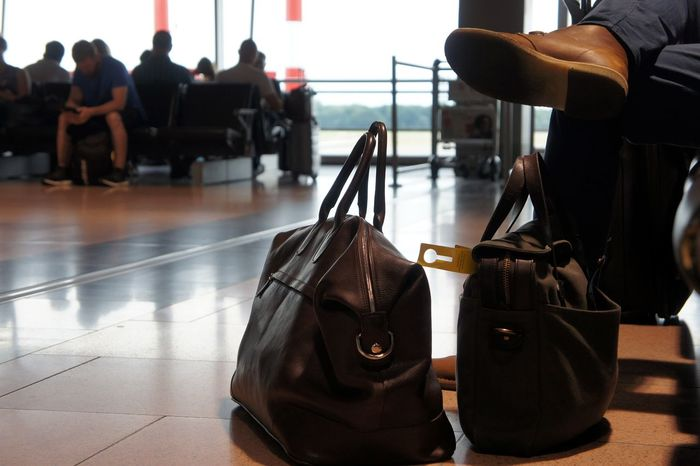shoulder bag: (222, 109, 460, 466), (441, 150, 630, 455)
